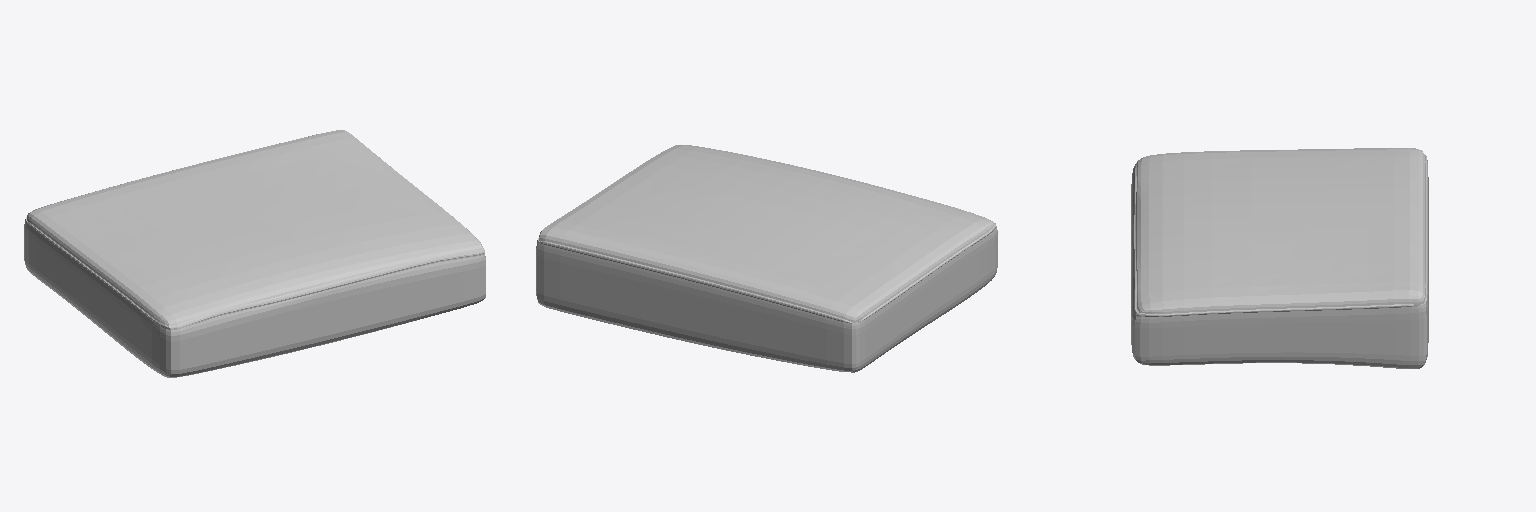
Rendered from couch-seat-left.obj.
The picture shows the model from 3 angles: view 1: azimuth 30°, elevation 25°; view 2: azimuth 150°, elevation 25°; view 3: azimuth 270°, elevation 25°; orthographic projection.
Visible parts, largest first — view 1: 6_seat_l_Untitled.004; view 2: 6_seat_l_Untitled.004; view 3: 6_seat_l_Untitled.004.
Boxes of the visible parts, box(x1,y1,x2,y2) form: 6_seat_l_Untitled.004: box(24, 130, 485, 377); 6_seat_l_Untitled.004: box(536, 145, 997, 372); 6_seat_l_Untitled.004: box(1131, 148, 1428, 368).
Size of the model in its own units: 2.34 by 0.56 by 1.85.